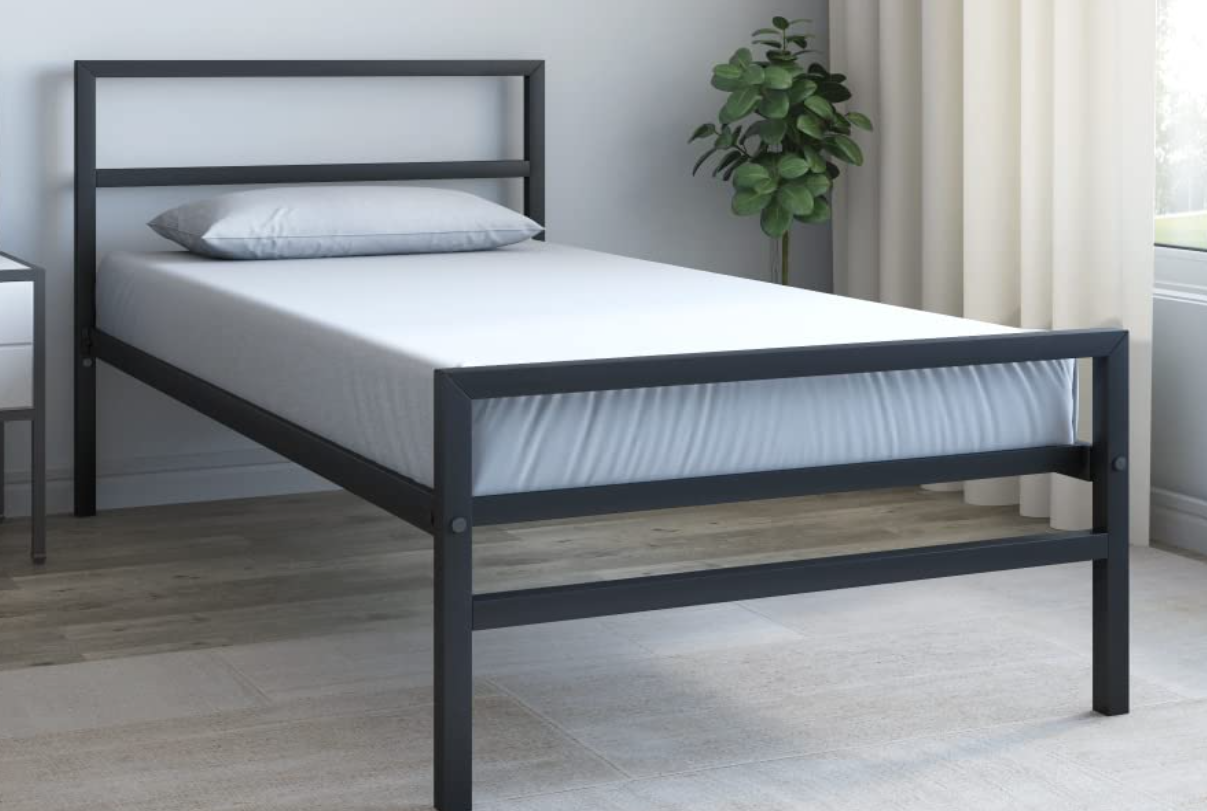cot: (64, 49, 1141, 811)
